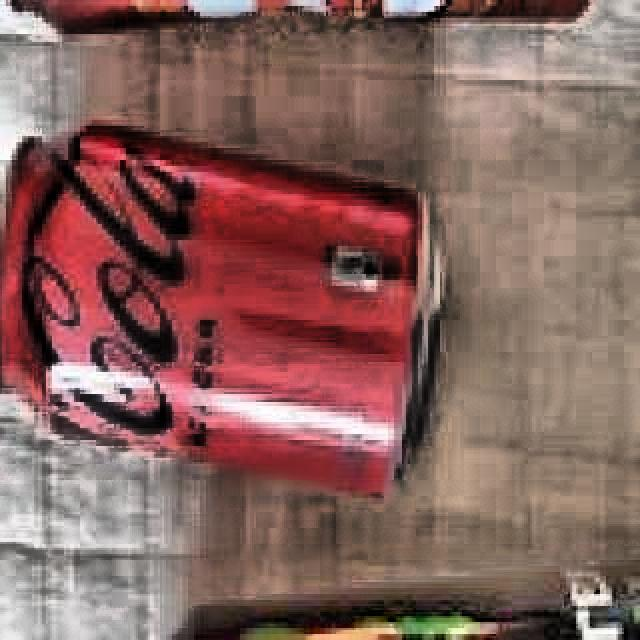metal: (0, 119, 446, 505)
